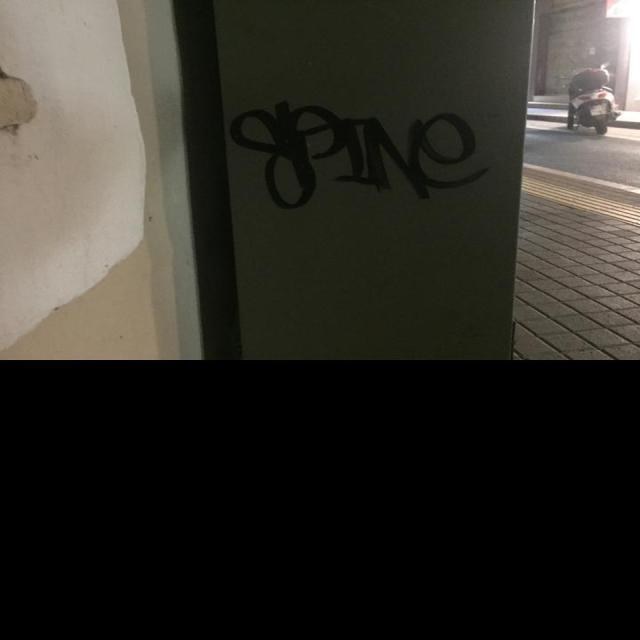nonspitting: (233, 94, 488, 208)
